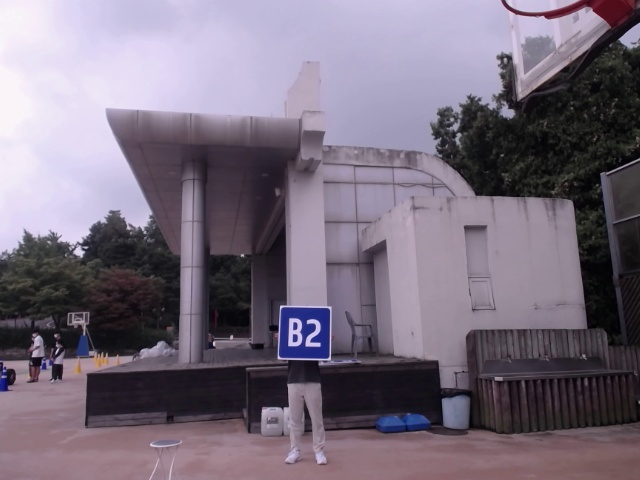delivery_b2: (279, 305, 332, 362)
